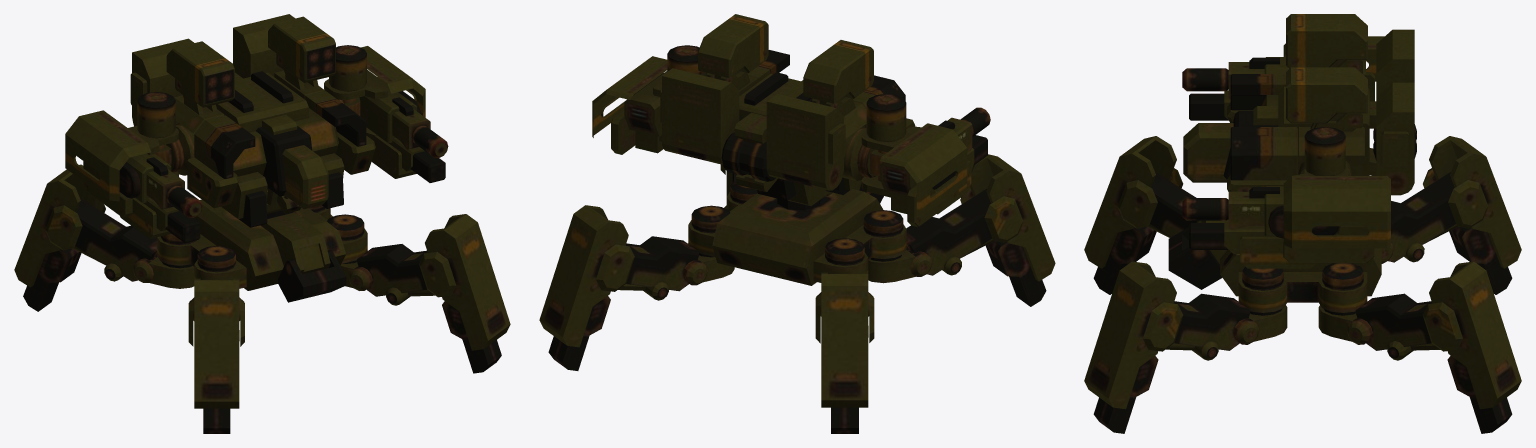
File: robot.glb
3 renders of one model, left to right at view 1: azimuth 30°, elevation 25°; view 2: azimuth 150°, elevation 25°; view 3: azimuth 270°, elevation 25°, orthographic. The views are drawn at different scales.
Visible parts, largest first — view 1: Object_2, Object_3, Object_4; view 2: Object_2, Object_3, Object_4; view 3: Object_2, Object_3, Object_4.
Boxes of the visible parts, x1,y1,x2,y2 form: Object_2: (14,16,510,433); Object_3: (128,14,387,302); Object_4: (216,71,344,227); Object_2: (539,14,1055,433); Object_3: (653,45,921,285); Object_4: (721,72,866,210); Object_2: (1084,14,1521,433); Object_3: (1168,29,1414,296); Object_4: (1183,86,1416,219).
Bounding box in the file's own units: 34.53 × 30.01 × 38.28.
3 materials, 3 textured.
